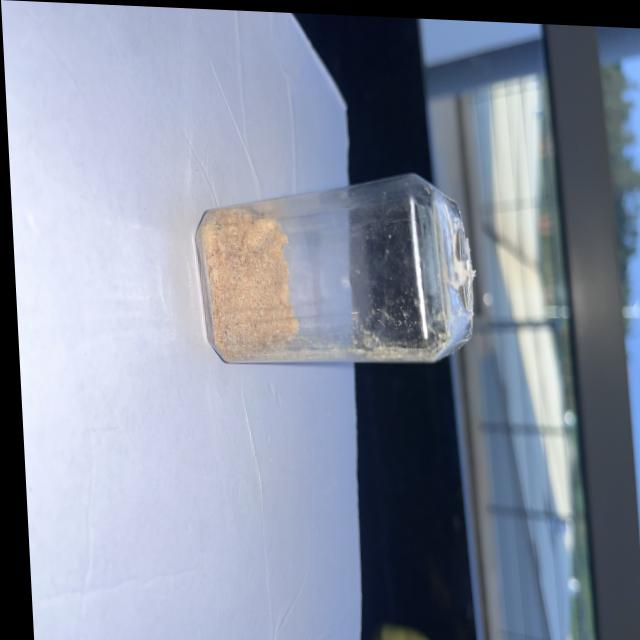garlic_powder: (199, 203, 296, 359)
